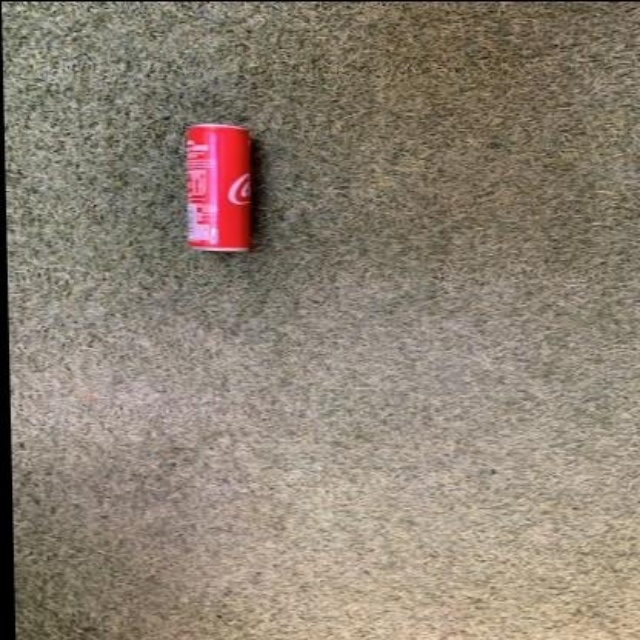trash: (185, 125, 249, 249)
